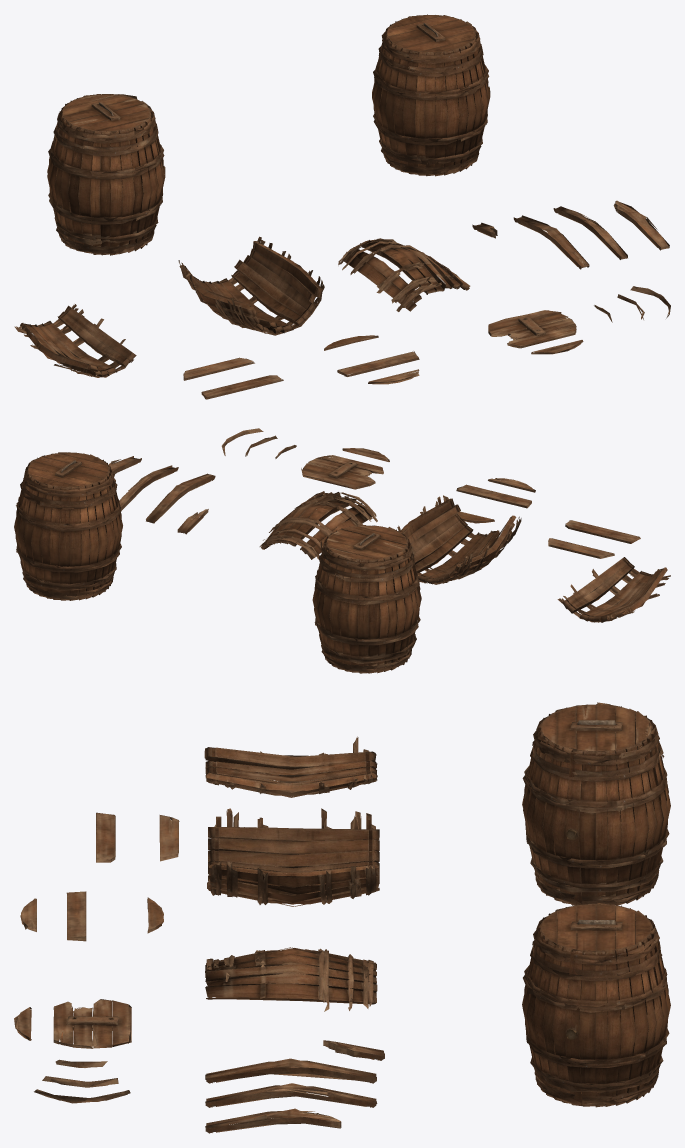
The model's file is farm-barrels.glb.
The picture shows the model from 3 angles, top to bottom: view 1: azimuth 30°, elevation 25°; view 2: azimuth 150°, elevation 25°; view 3: azimuth 270°, elevation 25°; orthographic projection. The views are drawn at different scales.
Visible parts, largest first — view 1: wooden_barrels_01_barrel01; view 2: wooden_barrels_01_barrel01; view 3: wooden_barrels_01_barrel01.
Boxes of the visible parts, x1=… form: wooden_barrels_01_barrel01: x1=14, y1=14, x2=670, y2=399; wooden_barrels_01_barrel01: x1=14, y1=428, x2=670, y2=673; wooden_barrels_01_barrel01: x1=14, y1=702, x2=670, y2=1133.
Size of the model in its own units: 5.8 by 1.25 by 4.39.
Materials: 3 (3 with a texture image).
